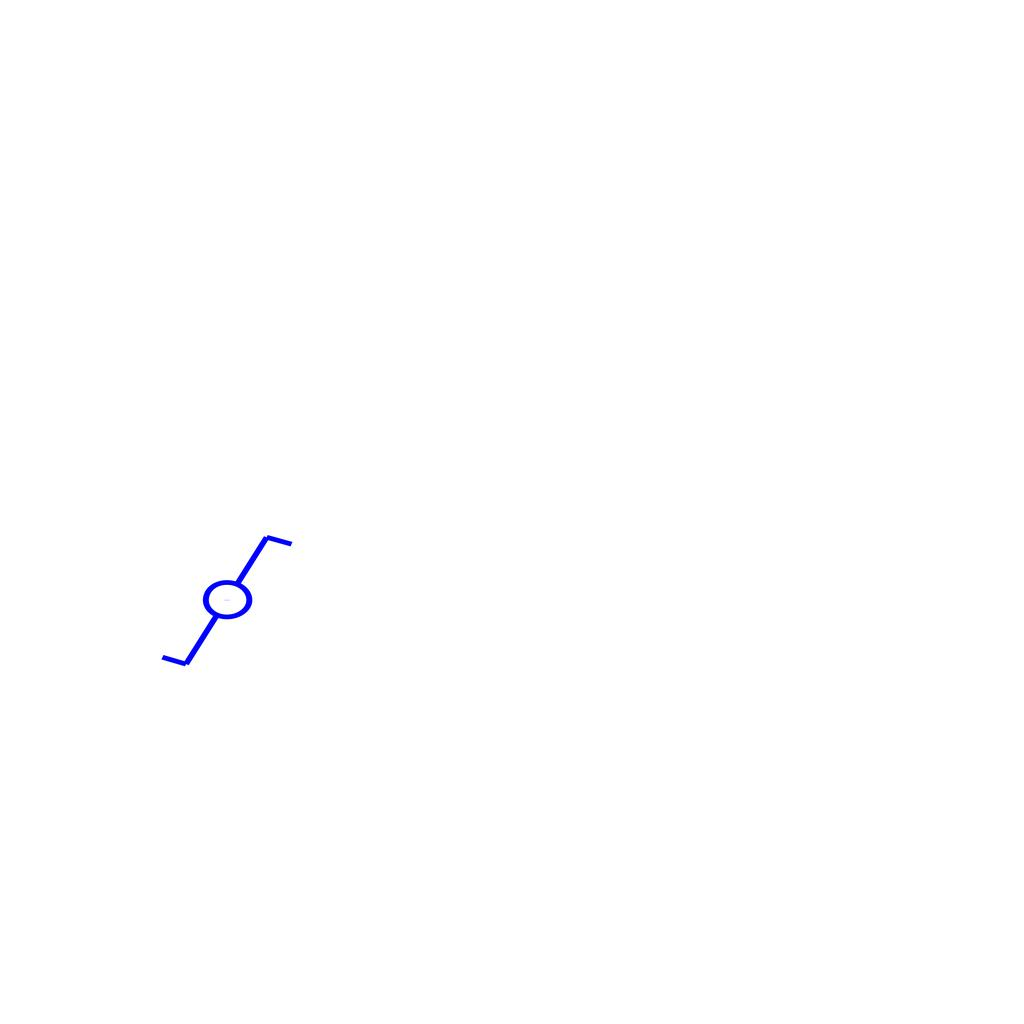Wechselschalter: (157, 530, 314, 674)
